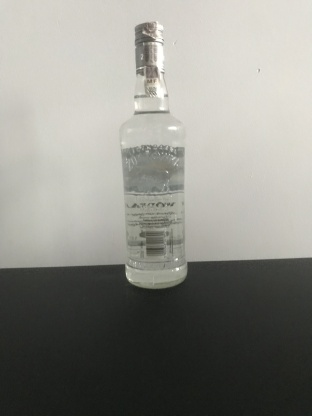nakretka: (133, 19, 166, 77)
